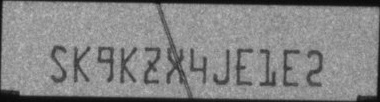1: (259, 48, 278, 86)
2: (305, 47, 322, 87)
4: (188, 46, 206, 85)
9: (97, 44, 114, 83)
E: (236, 46, 254, 85), (282, 48, 299, 86)
J: (212, 48, 231, 84)
K: (119, 45, 137, 84), (73, 46, 89, 84)
S: (50, 45, 69, 84)
X: (164, 45, 184, 85)
Z: (143, 45, 159, 85)
